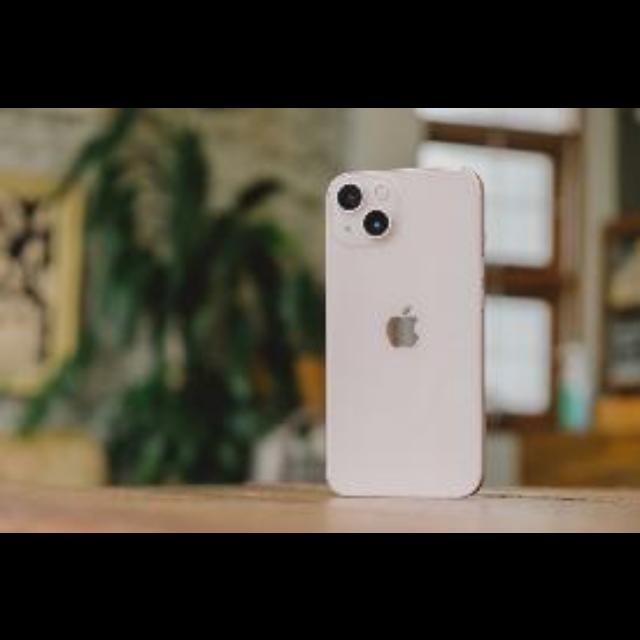PhoneUse: (319, 168, 481, 502)
